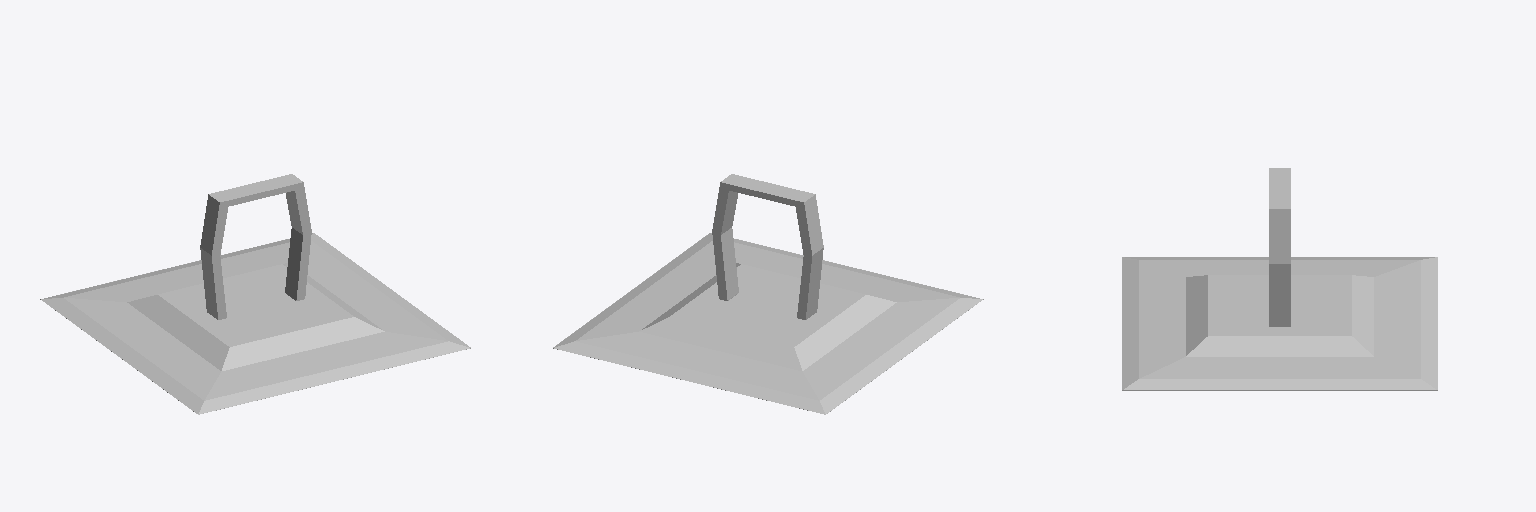
Rendered from Portal.obj.
3 views of the same model, side by side, from view 1: azimuth 30°, elevation 25°; view 2: azimuth 150°, elevation 25°; view 3: azimuth 270°, elevation 25° (orthographic).
Parts seen in each view (by area): view 1: Plane.001_Plane.006; view 2: Plane.001_Plane.006; view 3: Plane.001_Plane.006.
Boxes of the visible parts, box(x1,y1,x2,y2) form: Plane.001_Plane.006: box(40, 174, 470, 414); Plane.001_Plane.006: box(553, 174, 983, 414); Plane.001_Plane.006: box(1122, 168, 1437, 390).
Size of the model in its own units: 27.48 by 13.02 by 27.48.